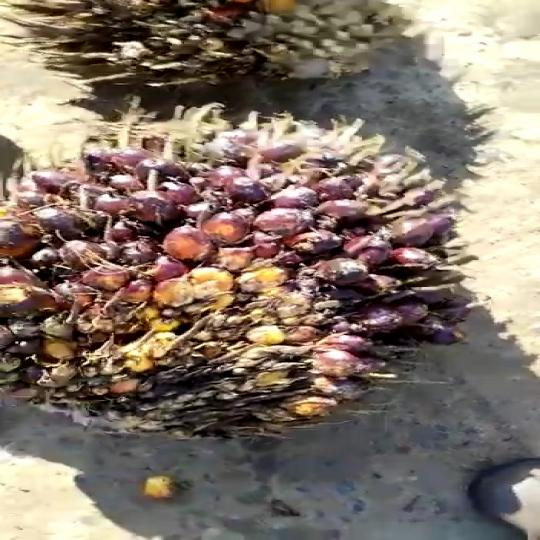kurang masak: (0, 110, 503, 440)
